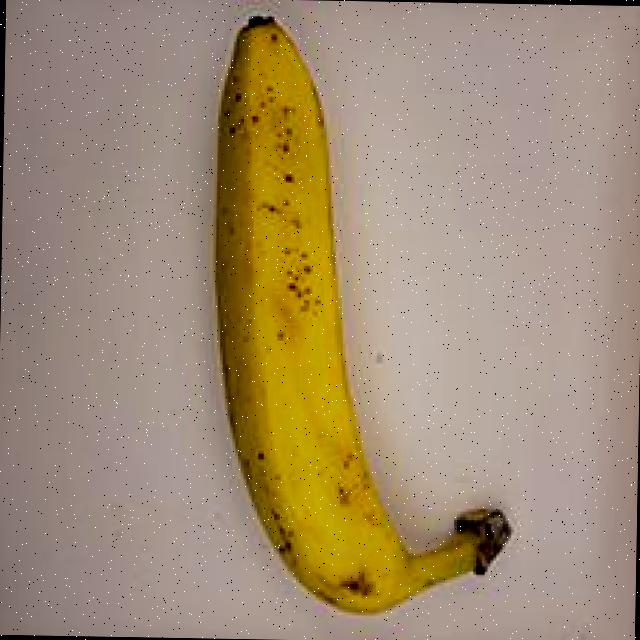Overripe: (144, 5, 531, 632)
